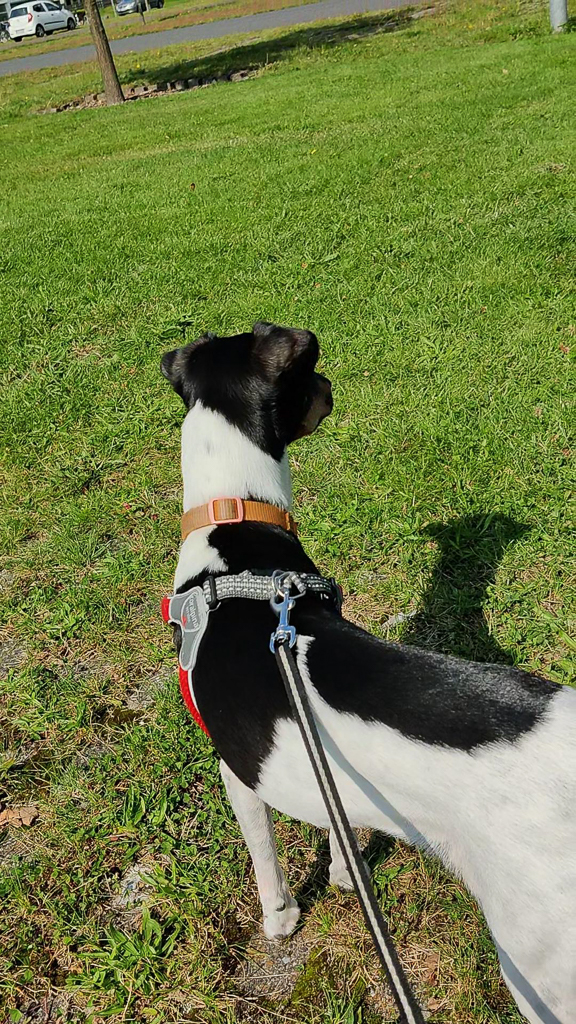Dog: (145, 313, 576, 1024)
